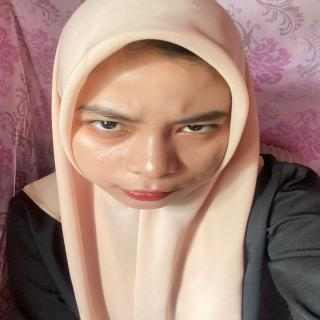Marah: (63, 38, 238, 213)
